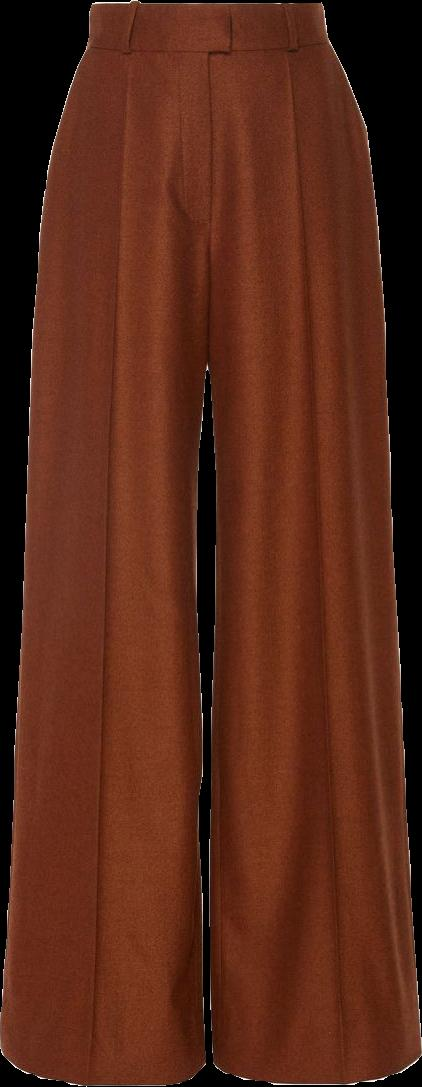Hemline: (0, 1041, 211, 1086), (214, 1047, 421, 1085)
Pantleg: (205, 2, 420, 1083), (0, 2, 205, 1083)
Waistline: (83, 29, 336, 63), (90, 0, 323, 17)
